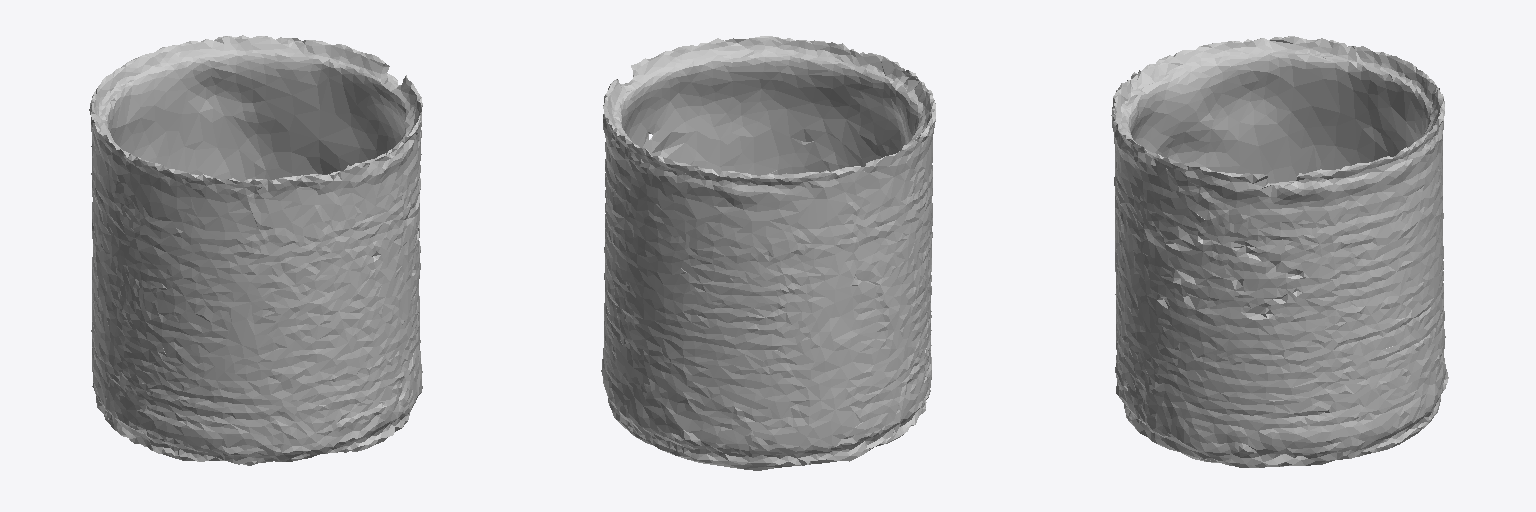
File: majs-high.obj
The picture shows the model from 3 angles: view 1: azimuth 30°, elevation 25°; view 2: azimuth 150°, elevation 25°; view 3: azimuth 270°, elevation 25°; orthographic projection.
Visible parts, largest first — view 1: 3DModel_LowPoly; view 2: 3DModel_LowPoly; view 3: 3DModel_LowPoly.
Part boxes in pixels (x1,y1,x2,y2): 3DModel_LowPoly: (89,35,422,465); 3DModel_LowPoly: (601,36,935,470); 3DModel_LowPoly: (1111,36,1448,467).
Size of the model in its own units: 0.087 by 0.0876 by 0.0873.